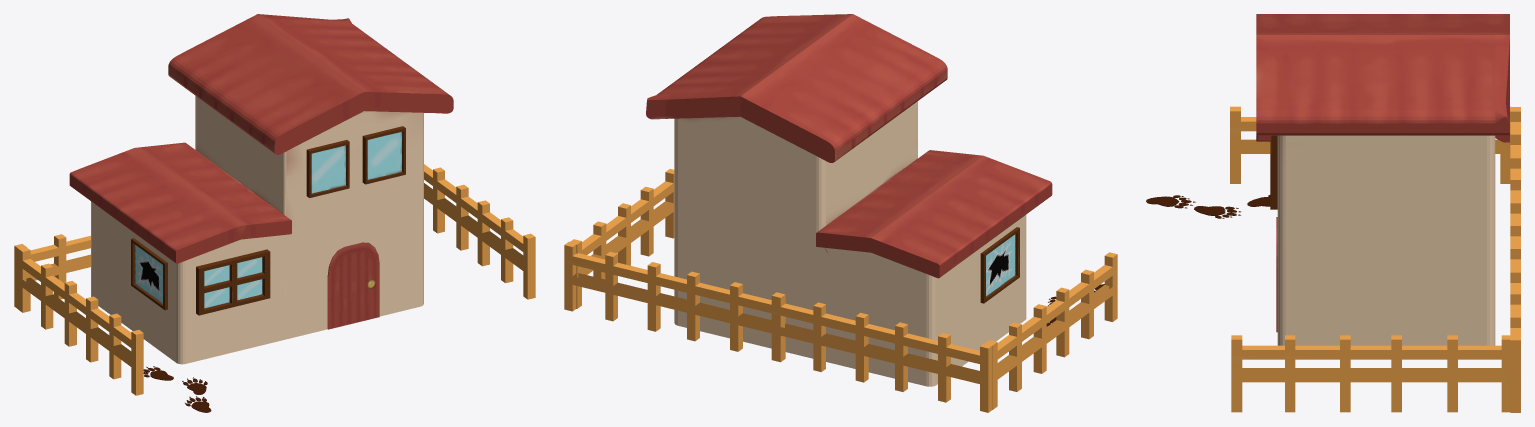
The model's file is Owl House.fbx.
3 renders of one model, left to right at view 1: azimuth 30°, elevation 25°; view 2: azimuth 150°, elevation 25°; view 3: azimuth 270°, elevation 25°, orthographic. The views are drawn at different scales.
Parts seen in each view (by area): view 1: Cube, Cube.010, Cube.008, Cube.001, Cube.002, Cube.005, Cube.004, Cube.006, Cube.003; view 2: Cube, Cube.006, Cube.007, Cube.010, Cube.008, Cube.003; view 3: Cube, Cube.008, Cube.010, Cube.007, Cube.006, FOOT.002, FOOT.
Boxes of the visible parts, x1,y1,x2,y2 form: Cube: [69, 14, 453, 364]; Cube.010: [18, 247, 143, 395]; Cube.008: [424, 164, 535, 299]; Cube.001: [327, 242, 379, 329]; Cube.002: [196, 249, 270, 315]; Cube.005: [362, 126, 405, 184]; Cube.004: [306, 140, 349, 197]; Cube.006: [14, 234, 90, 308]; Cube.003: [131, 238, 167, 310]; Cube: [646, 14, 1052, 386]; Cube.006: [772, 292, 992, 412]; Cube.007: [564, 241, 784, 359]; Cube.010: [985, 252, 1117, 409]; Cube.008: [570, 169, 674, 308]; Cube.003: [980, 227, 1019, 303]; Cube: [1256, 14, 1509, 345]; Cube.008: [1231, 335, 1512, 412]; Cube.010: [1230, 106, 1511, 183]; Cube.007: [1510, 225, 1520, 412]; Cube.006: [1510, 107, 1520, 225]; FOOT.002: [1146, 195, 1195, 208]; FOOT: [1194, 206, 1241, 218].
Size of the model in its own units: 2057 by 1165 by 1395.
